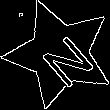N_NW: (27, 21, 92, 86)
